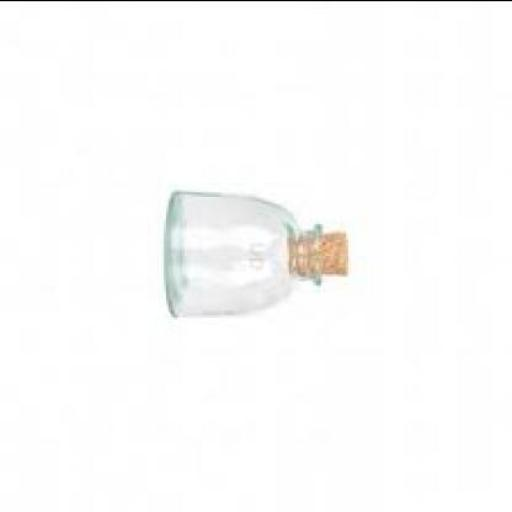glass: (166, 186, 324, 317)
